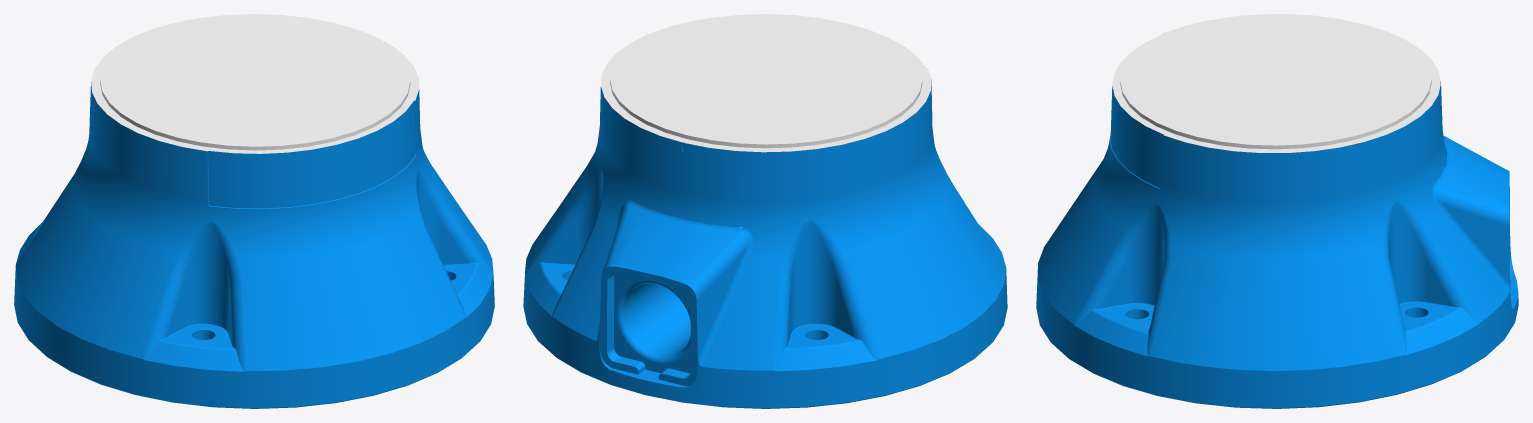
The picture shows the model from 3 angles, left to right: view 1: azimuth 30°, elevation 25°; view 2: azimuth 150°, elevation 25°; view 3: azimuth 270°, elevation 25°; orthographic projection.
Visible parts, largest first — view 1: RB3-1200E_BASE:1; view 2: RB3-1200E_BASE:1; view 3: RB3-1200E_BASE:1.
Boxes of the visible parts, x1,y1,x2,y2 form: RB3-1200E_BASE:1: (14,14,494,408); RB3-1200E_BASE:1: (523,14,1007,408); RB3-1200E_BASE:1: (1036,14,1518,408).
Size of the model in its own units: 0.1728 by 0.1728 by 0.0909.
